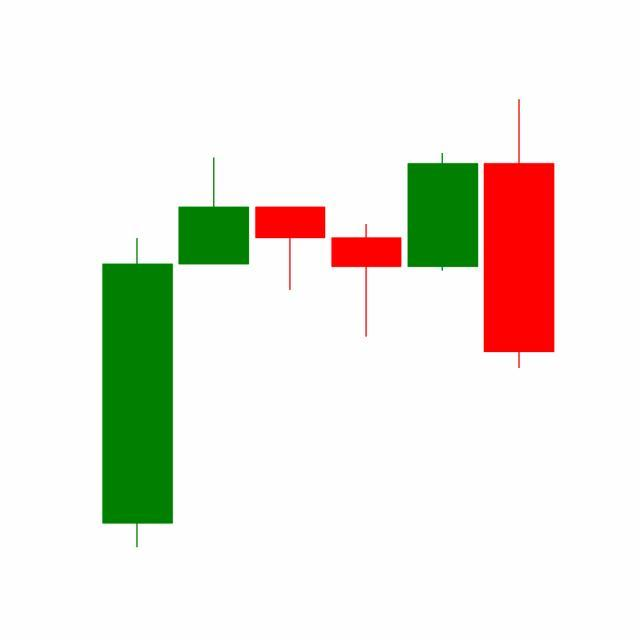Marubozu: (404, 152, 482, 274)
